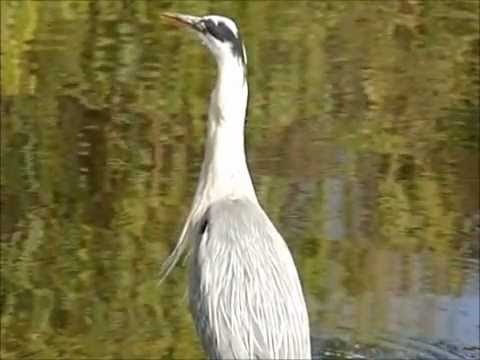heron: (150, 7, 316, 360)
